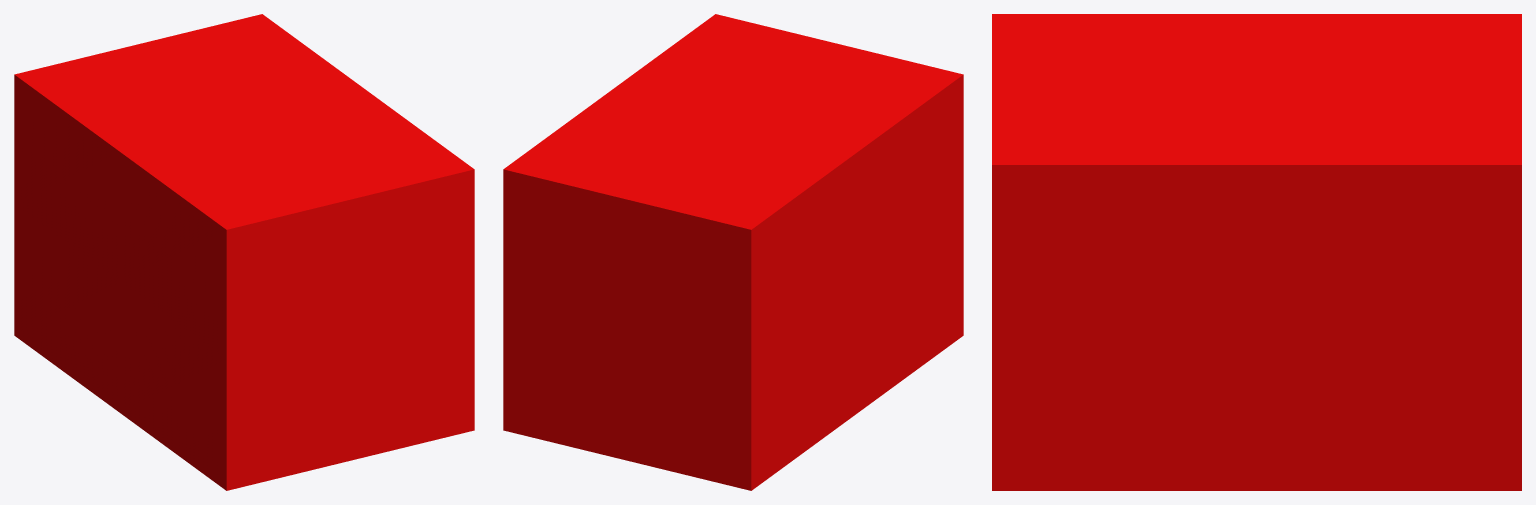
File: r_cap_col.dae
The picture shows the model from 3 angles, left to right: view 1: azimuth 30°, elevation 25°; view 2: azimuth 150°, elevation 25°; view 3: azimuth 270°, elevation 25°; orthographic projection. The views are drawn at different scales.
Parts seen in each view (by area): view 1: node0; view 2: node0; view 3: node0.
Boxes of the visible parts, x1,y1,x2,y2 form: node0: (14,14,474,490); node0: (503,14,963,490); node0: (992,14,1521,490).
Size of the model in its own units: 0.0185 by 0.0186 by 0.0274.
